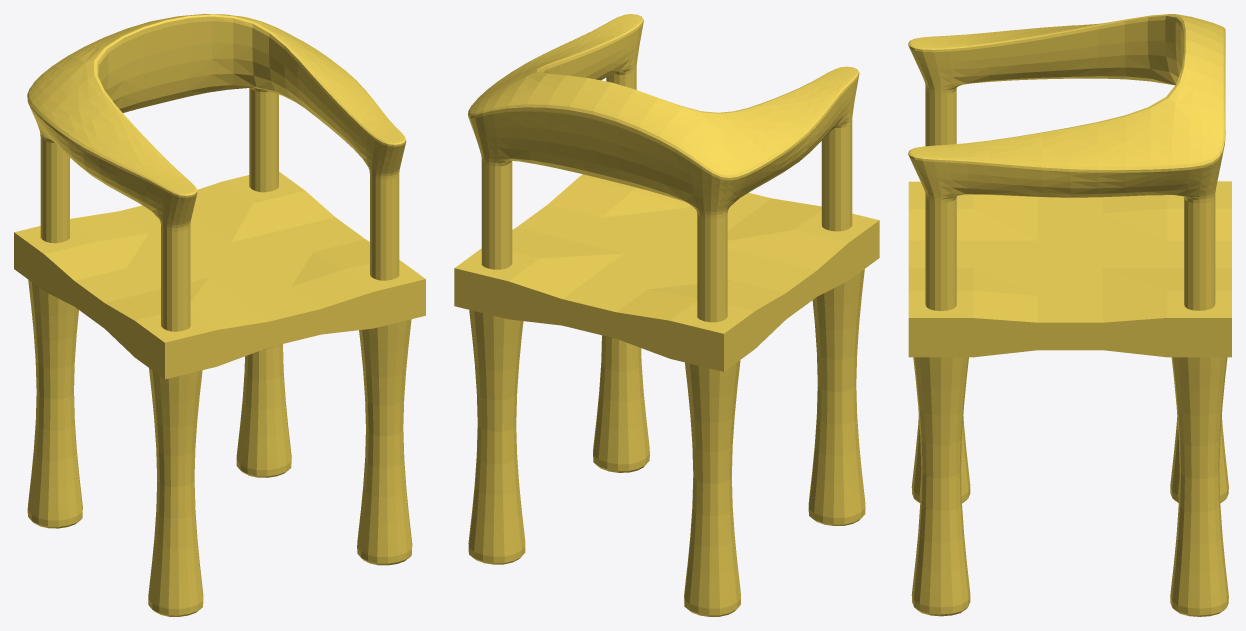
File: chair_2_v000.glb
The picture shows the model from 3 angles, left to right: view 1: azimuth 30°, elevation 25°; view 2: azimuth 150°, elevation 25°; view 3: azimuth 270°, elevation 25°; orthographic projection. The views are drawn at different scales.
Visible parts, largest first — view 1: world; view 2: world; view 3: world.
Boxes of the visible parts, <box> form: world: <box>14,14,425,616</box>; world: <box>454,14,879,616</box>; world: <box>908,14,1231,616</box>.
Bounding box in the file's own units: 0.0982 × 0.1614 × 0.0924.
